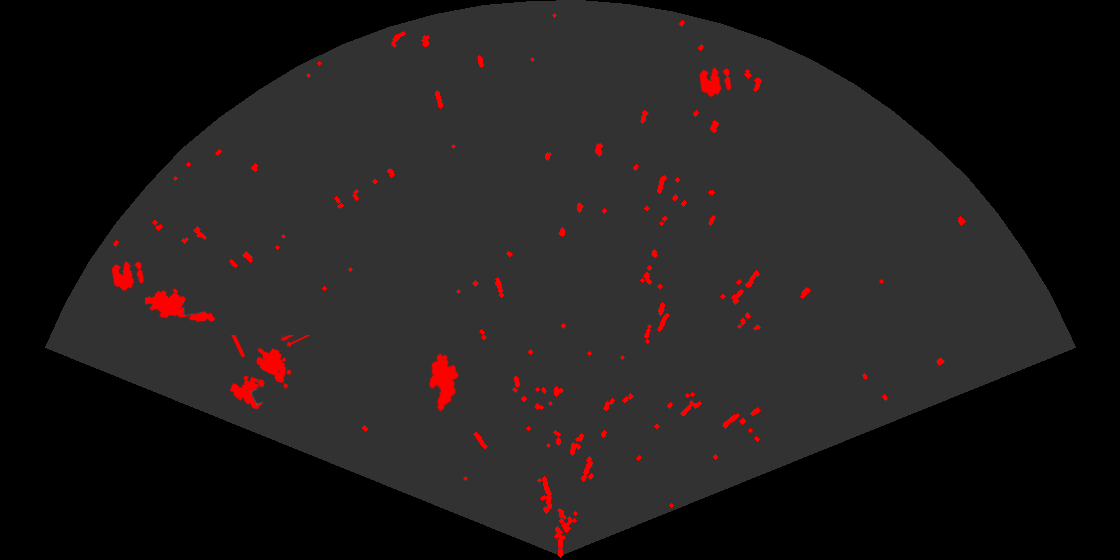AUV: (427, 352, 460, 413)
ball: (698, 66, 733, 98), (110, 260, 145, 292)
cage: (228, 335, 311, 411)
frogman: (145, 287, 217, 323)
